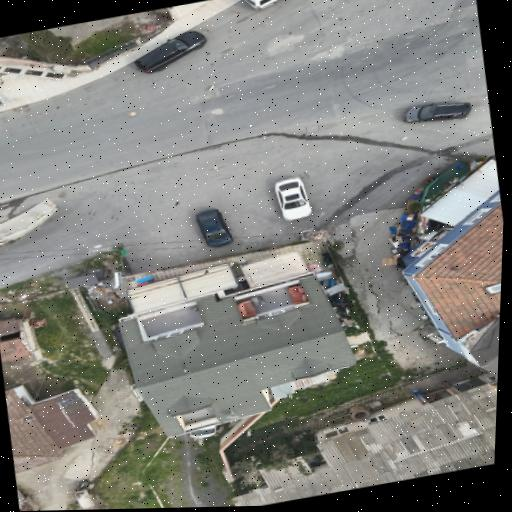car: (135, 31, 205, 72), (274, 176, 310, 219), (195, 208, 232, 247), (403, 102, 470, 122), (188, 425, 215, 437), (244, 0, 280, 9)
